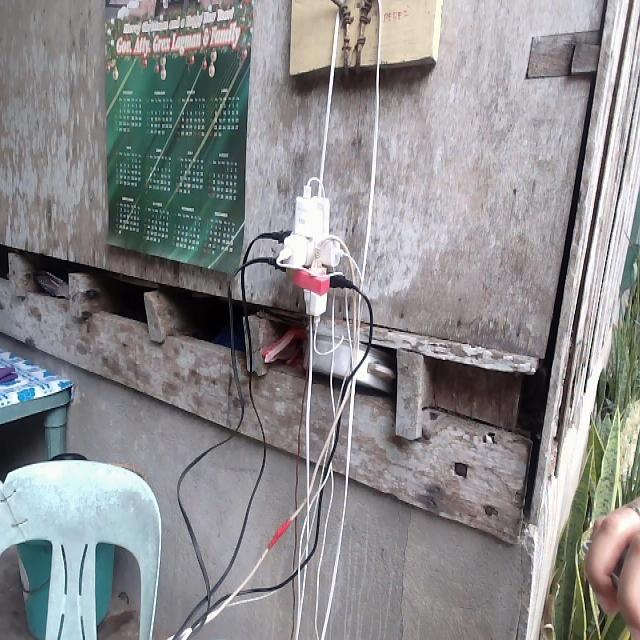-: (260, 175, 354, 328)
